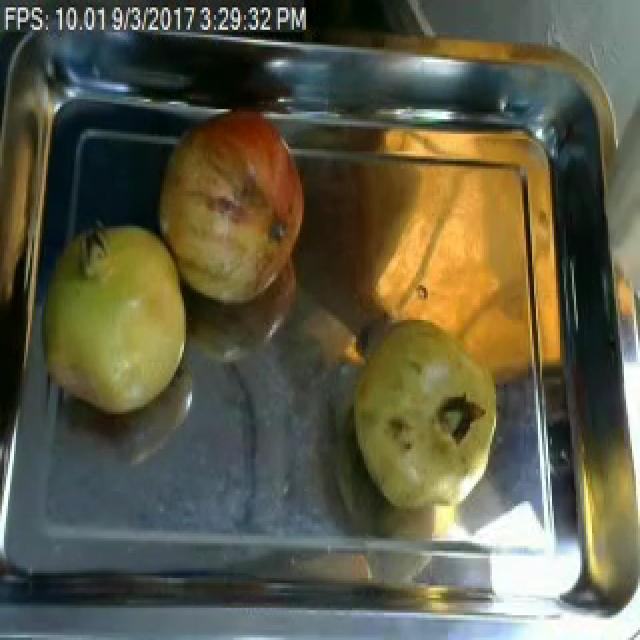fruit: (342, 298, 514, 531), (28, 213, 200, 432), (146, 99, 312, 310)
